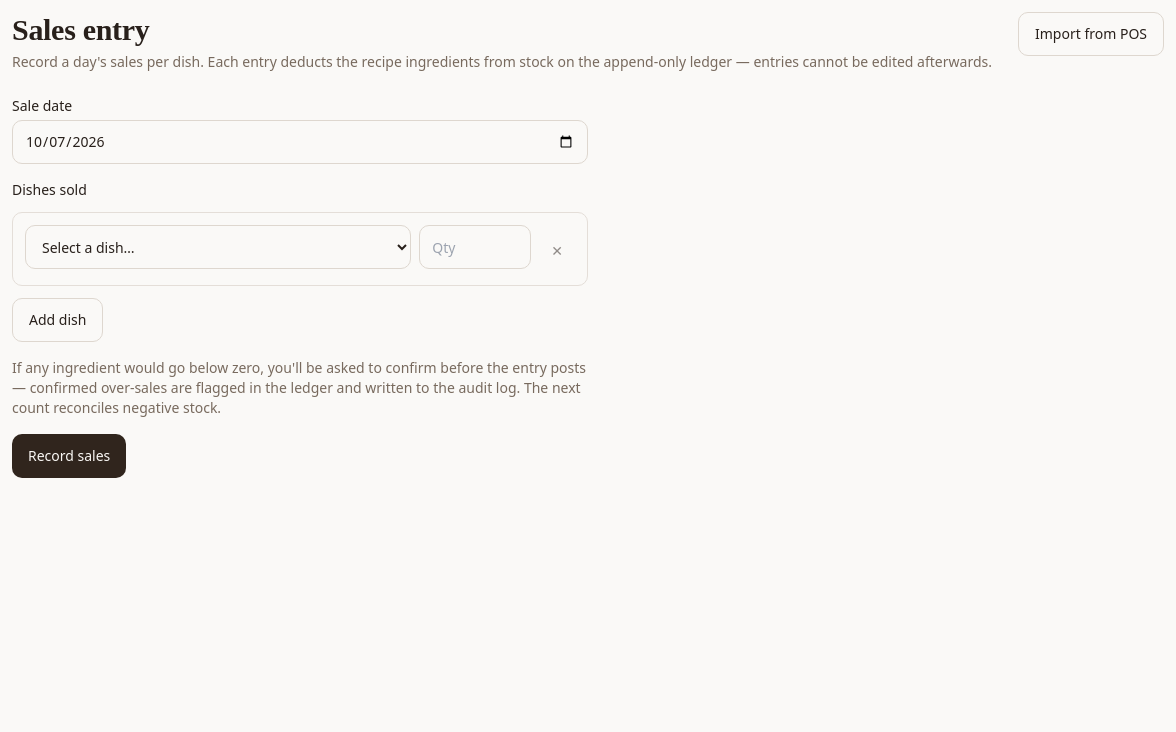
SalesEntryPage › shows the revenue estimate and flags unpriced dishes
Select "Naan" in the dropdown named "dish 1": (218, 247) [25, 225, 411, 269]
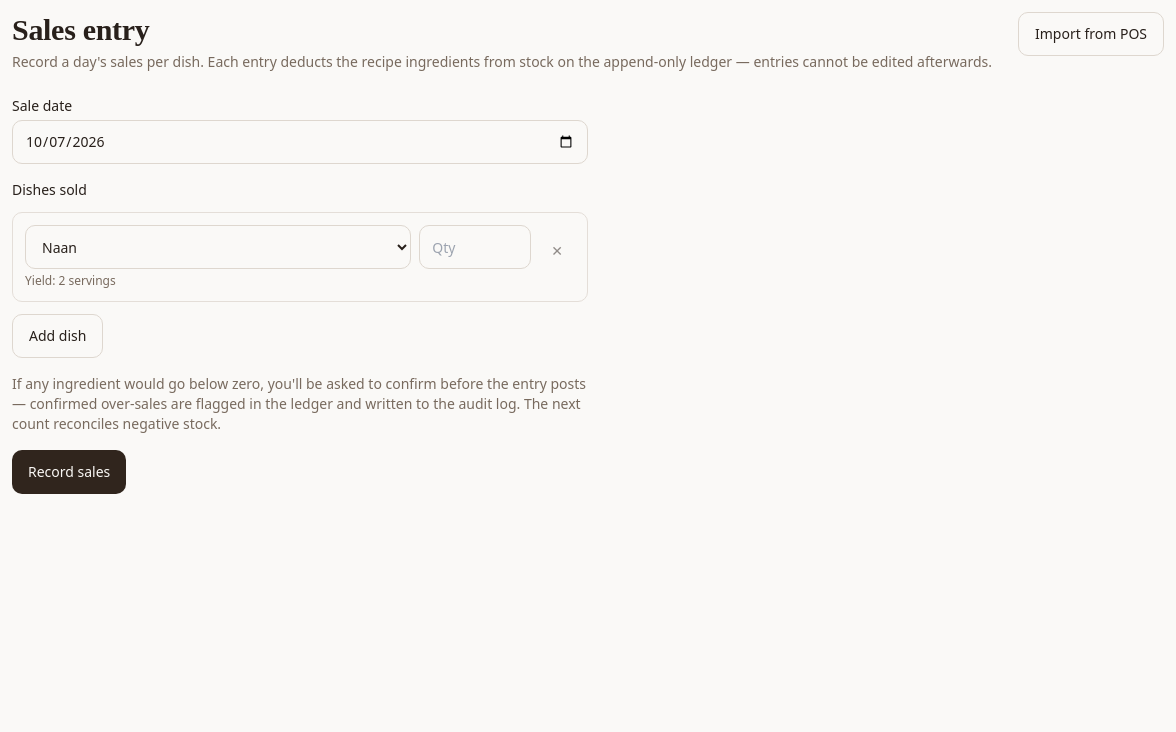
In the number field named "dishes sold (naan)": (475, 247) [419, 225, 531, 269], type "3"
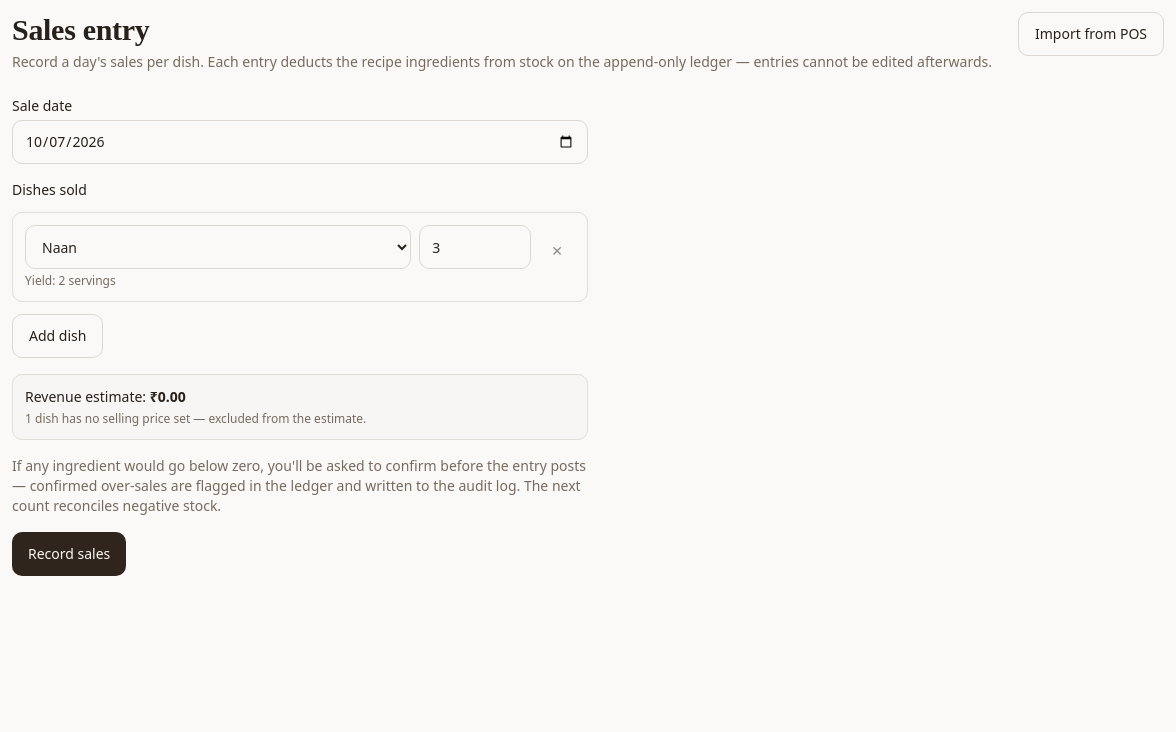
Now the text "Revenue estimate: ₹0.00" is shown, box [25, 387, 186, 406]
Now the text "no selling price set" is shown, box [85, 410, 366, 427]
